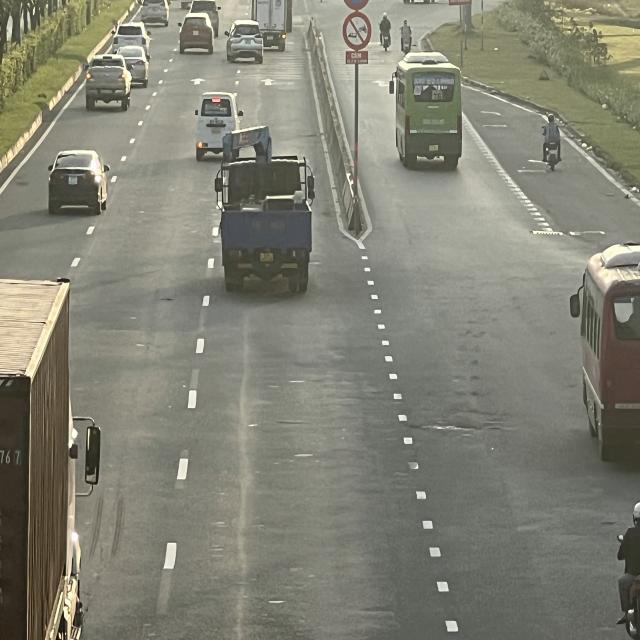car: (47, 151, 109, 216), (85, 58, 132, 110), (225, 22, 265, 62), (180, 12, 218, 52), (111, 22, 152, 53)
coach: (567, 248, 636, 466), (390, 54, 463, 173)
truck: (213, 125, 314, 292), (253, 0, 293, 47)
van: (194, 92, 242, 162)
